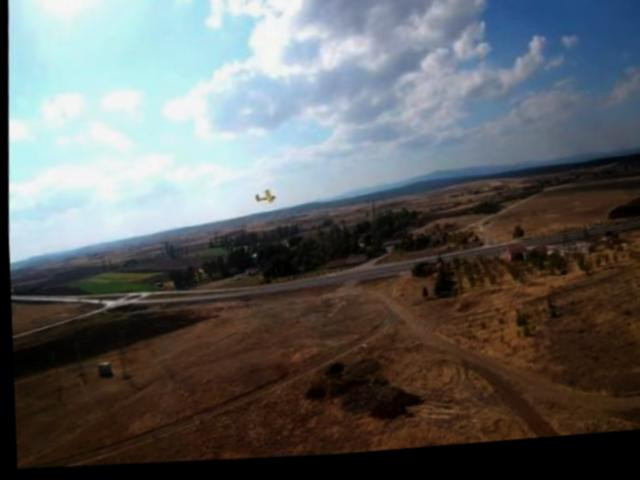uav: (252, 191, 275, 212)
